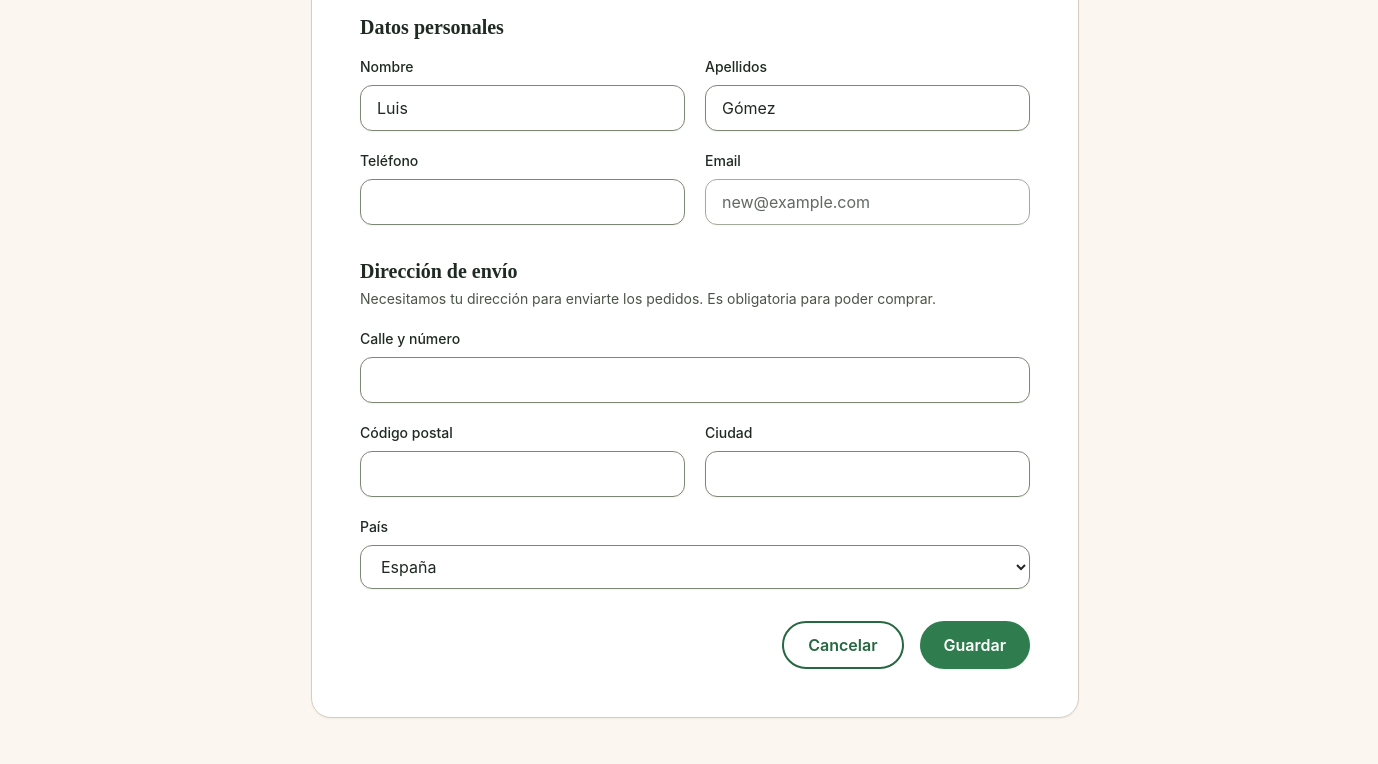
EditProfileScreen › saves the shipping address and goes back to the account
(page scrolled)
Type "Calle Sol 4" into the field labelled "Calle y número" at (695, 380), box left=360, top=357, right=1030, bottom=403
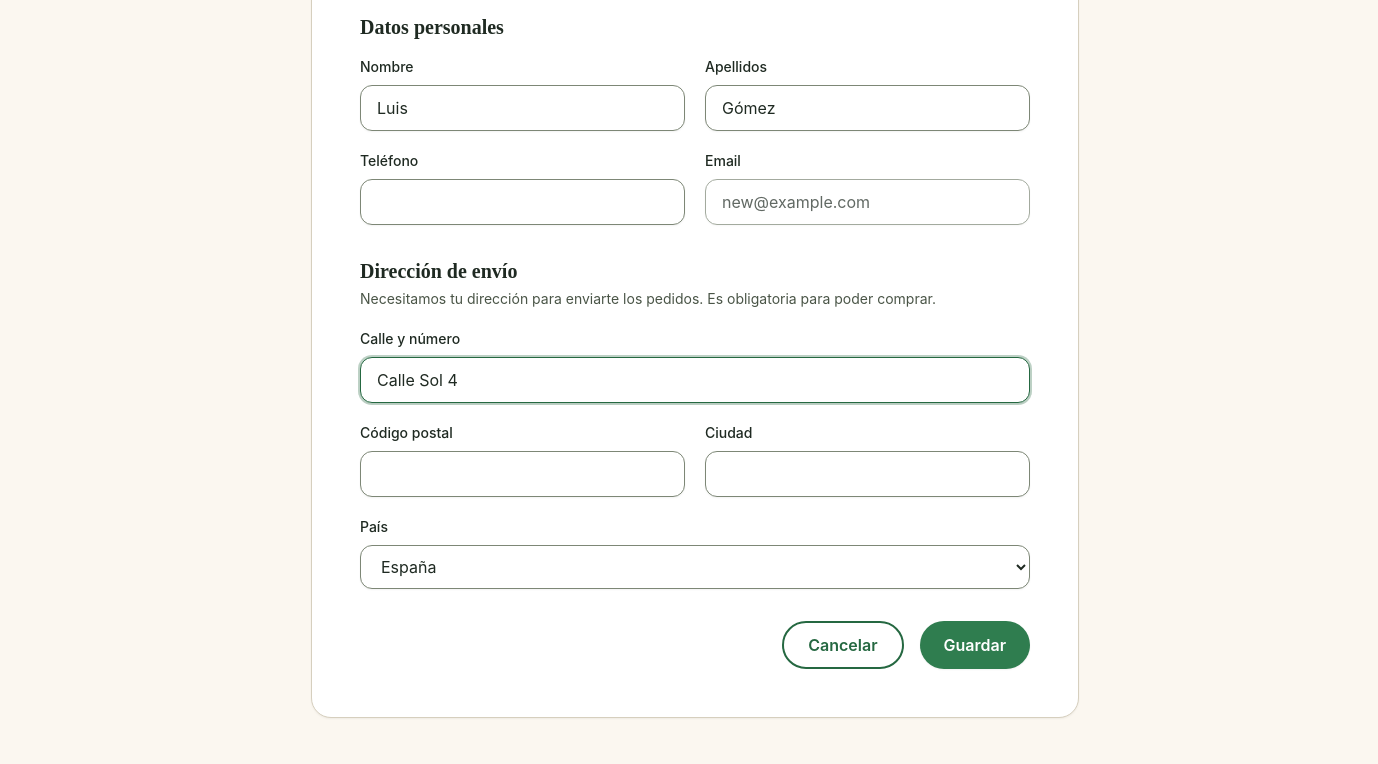
Type "28001" into the field labelled "Código postal" at (522, 474), box left=360, top=451, right=685, bottom=497
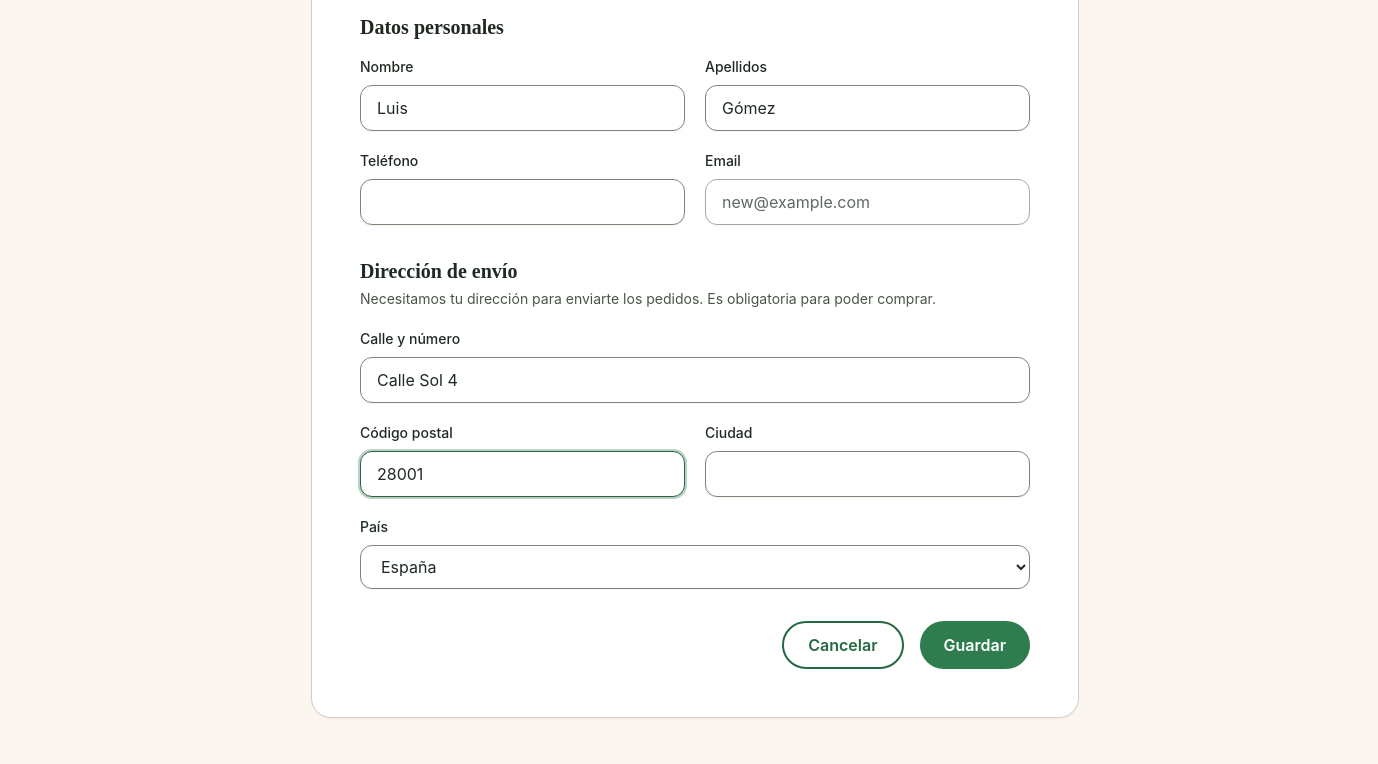
Type "Madrid" into the field labelled "Ciudad" at (868, 474), box left=705, top=451, right=1030, bottom=497
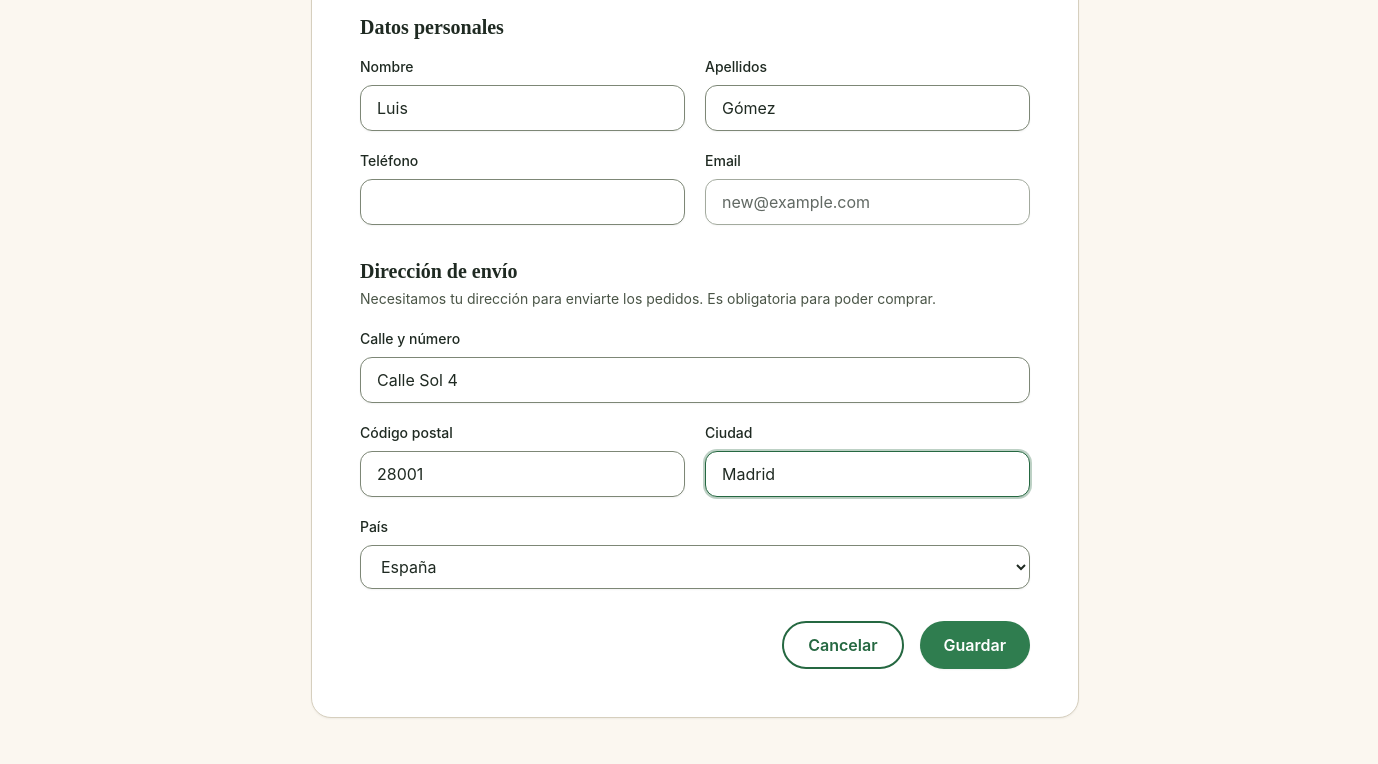
Select "PT" in the dropdown labelled "País" at (695, 567), box left=360, top=545, right=1030, bottom=589
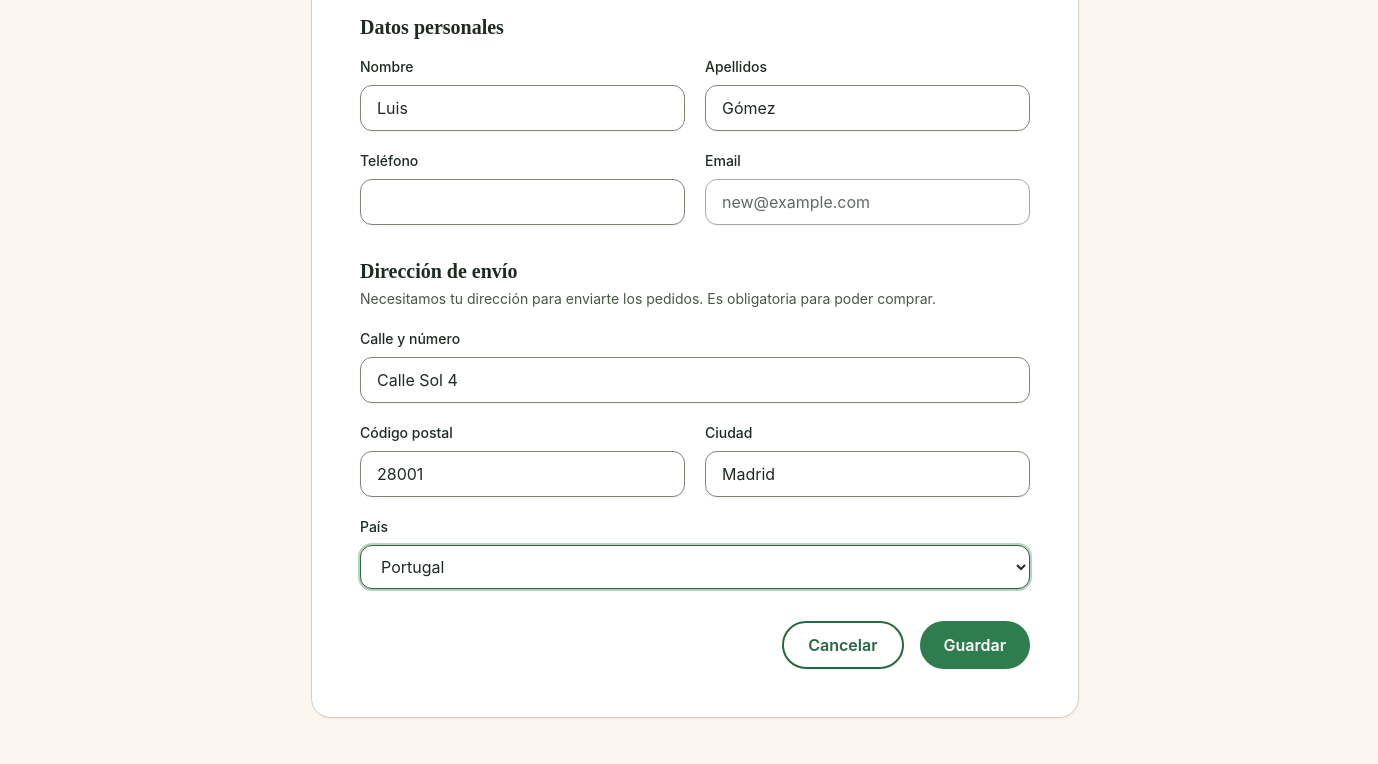
Click the button "Guardar" at (975, 645), box left=920, top=621, right=1030, bottom=669
(page scrolled)
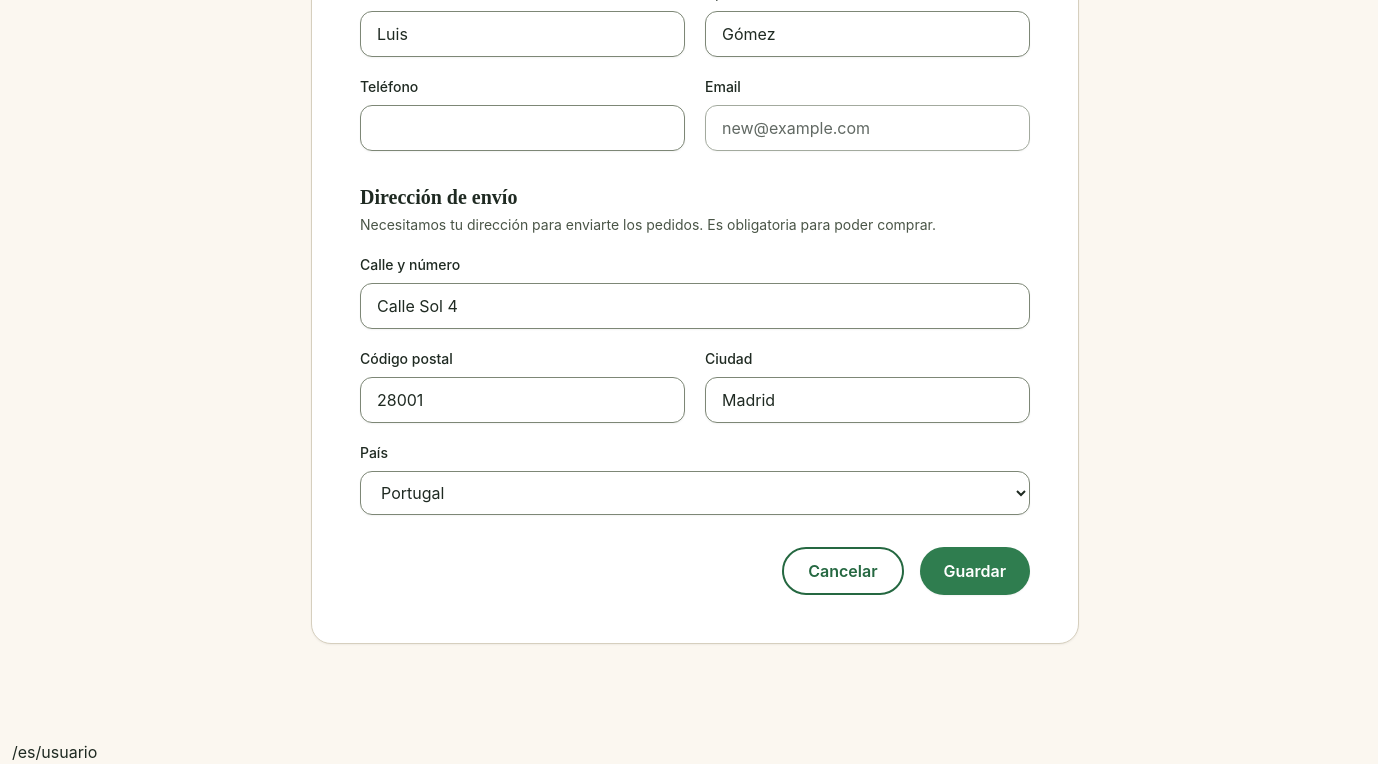
Now the text "/es/usuario" is shown, box left=12, top=742, right=97, bottom=762
